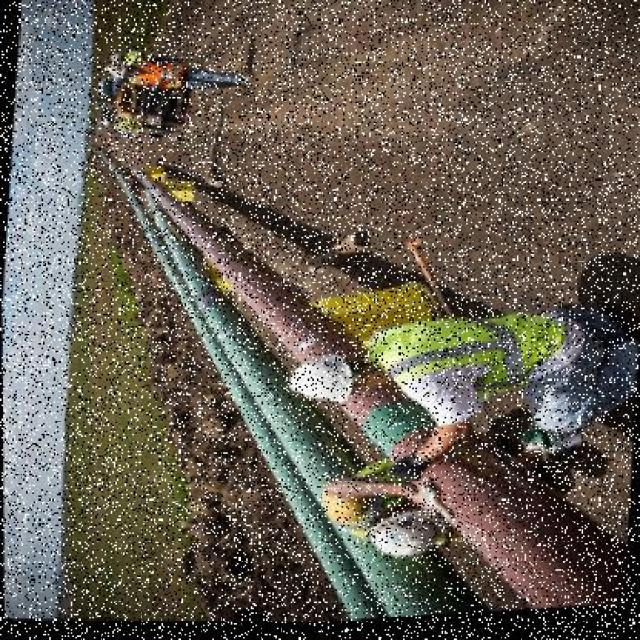helmet: (368, 508, 452, 568), (279, 353, 356, 412), (98, 63, 130, 81)
vest: (371, 302, 569, 408), (126, 56, 190, 93)
